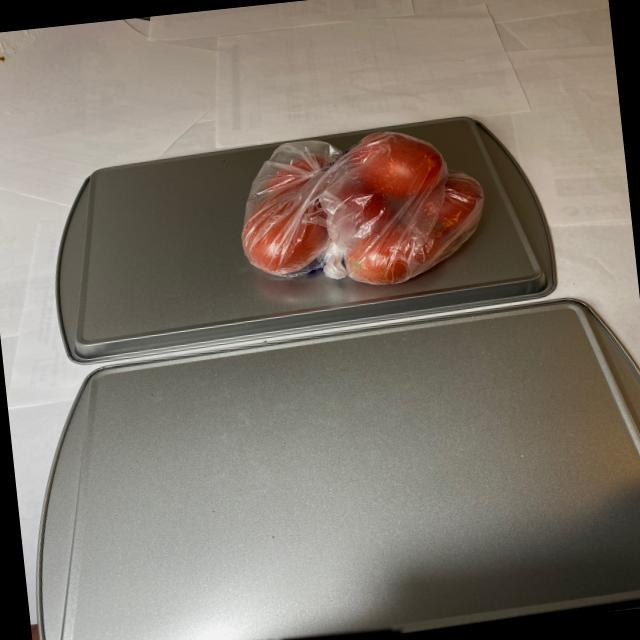tomato: (236, 125, 495, 298)
